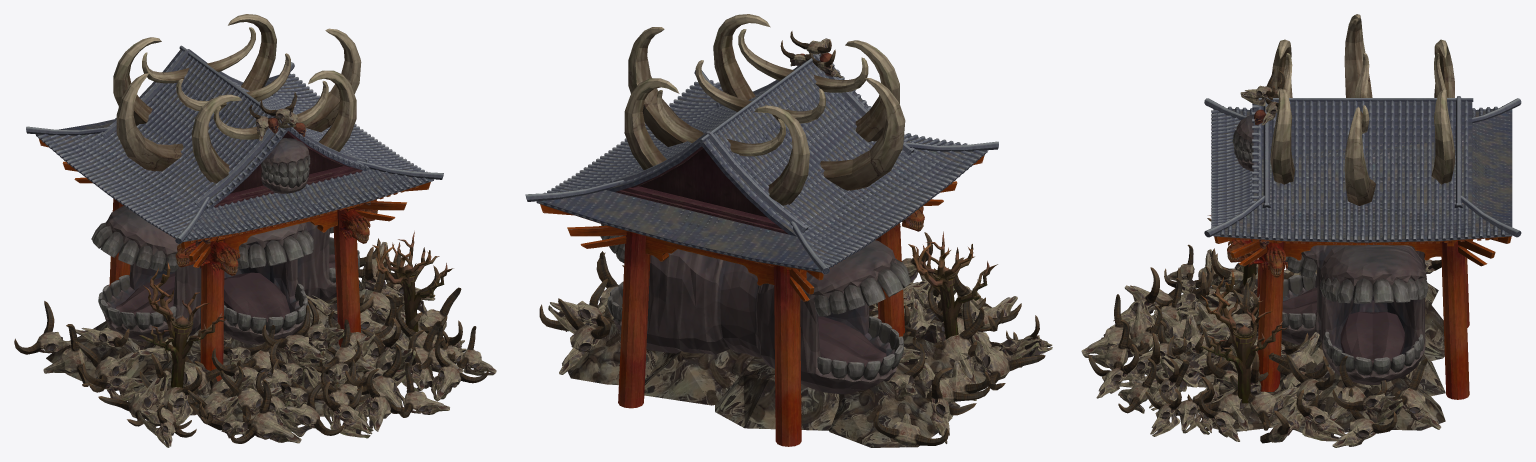
The model's file is Malevolent_shrine_webp.glb.
3 renders of one model, left to right at view 1: azimuth 30°, elevation 25°; view 2: azimuth 150°, elevation 25°; view 3: azimuth 270°, elevation 25°, orthographic. The views are drawn at different scales.
Visible parts, largest first — view 1: SM_SQ_SuperCursedEnergy_CP_020_MalevolentShrine 2, SM_SQ_SuperCursedEnergy_CP_020_MalevolentShrine 1, SM_SQ_SuperCursedEnergy_CP_020_MalevolentShrine, SM_SQ_SuperCursedEnergy_CP_020_MalevolentShrine 3, SM_SQ_SuperCursedEnergy_CP_020_MalevolentShrine 4; view 2: SM_SQ_SuperCursedEnergy_CP_020_MalevolentShrine 2, SM_SQ_SuperCursedEnergy_CP_020_MalevolentShrine 1, SM_SQ_SuperCursedEnergy_CP_020_MalevolentShrine, SM_SQ_SuperCursedEnergy_CP_020_MalevolentShrine 4, SM_SQ_SuperCursedEnergy_CP_020_MalevolentShrine 3; view 3: SM_SQ_SuperCursedEnergy_CP_020_MalevolentShrine 2, SM_SQ_SuperCursedEnergy_CP_020_MalevolentShrine 1, SM_SQ_SuperCursedEnergy_CP_020_MalevolentShrine, SM_SQ_SuperCursedEnergy_CP_020_MalevolentShrine 4, SM_SQ_SuperCursedEnergy_CP_020_MalevolentShrine 3.
Part boxes in pixels (x1,y1,x2,y2): SM_SQ_SuperCursedEnergy_CP_020_MalevolentShrine 2: [14, 14, 496, 447]; SM_SQ_SuperCursedEnergy_CP_020_MalevolentShrine 1: [26, 45, 443, 267]; SM_SQ_SuperCursedEnergy_CP_020_MalevolentShrine: [91, 138, 359, 344]; SM_SQ_SuperCursedEnergy_CP_020_MalevolentShrine 3: [138, 231, 453, 387]; SM_SQ_SuperCursedEnergy_CP_020_MalevolentShrine 4: [46, 279, 409, 426]; SM_SQ_SuperCursedEnergy_CP_020_MalevolentShrine 2: [539, 14, 1052, 446]; SM_SQ_SuperCursedEnergy_CP_020_MalevolentShrine 1: [525, 53, 998, 301]; SM_SQ_SuperCursedEnergy_CP_020_MalevolentShrine: [600, 224, 910, 394]; SM_SQ_SuperCursedEnergy_CP_020_MalevolentShrine 4: [567, 305, 990, 447]; SM_SQ_SuperCursedEnergy_CP_020_MalevolentShrine 3: [908, 231, 997, 339]; SM_SQ_SuperCursedEnergy_CP_020_MalevolentShrine 2: [1081, 14, 1469, 447]; SM_SQ_SuperCursedEnergy_CP_020_MalevolentShrine 1: [1204, 96, 1521, 266]; SM_SQ_SuperCursedEnergy_CP_020_MalevolentShrine: [1232, 115, 1428, 384]; SM_SQ_SuperCursedEnergy_CP_020_MalevolentShrine 4: [1145, 274, 1445, 432]; SM_SQ_SuperCursedEnergy_CP_020_MalevolentShrine 3: [1199, 215, 1287, 403].
Bounding box in the file's own units: 18.13 × 13.59 × 17.74.
Materials: 5 (5 with a texture image).
